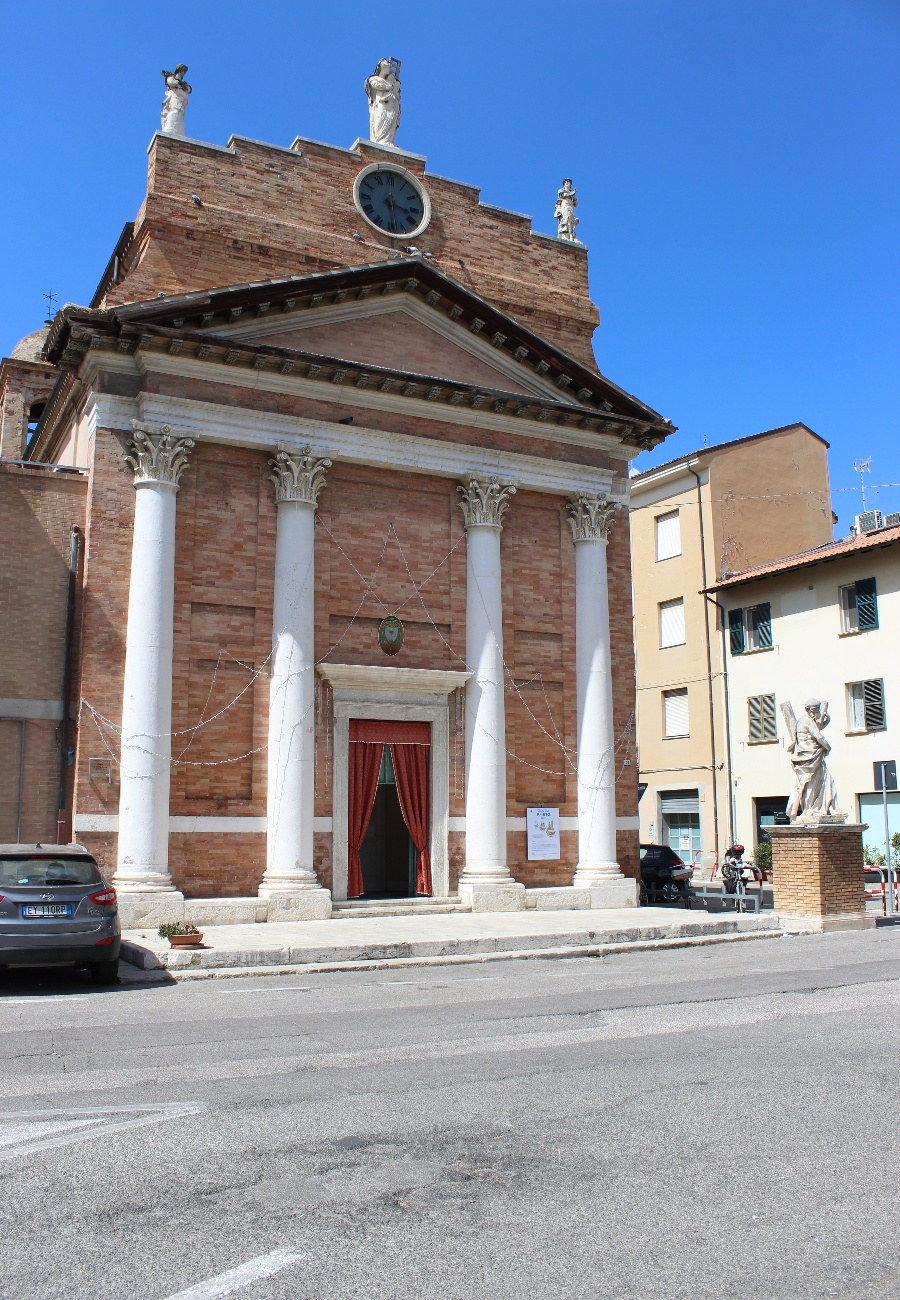Parrocchia Santa Maria: (50, 55, 679, 938)
